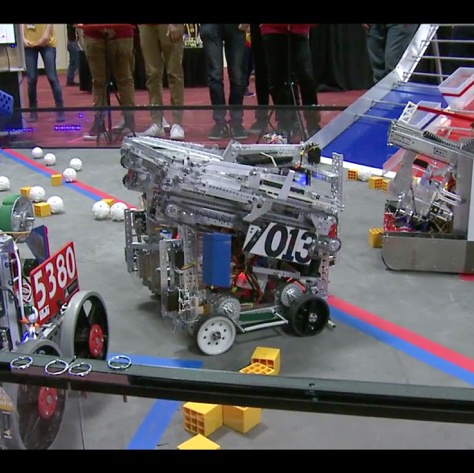robot: (117, 130, 342, 355), (0, 189, 115, 450), (375, 98, 474, 278)
